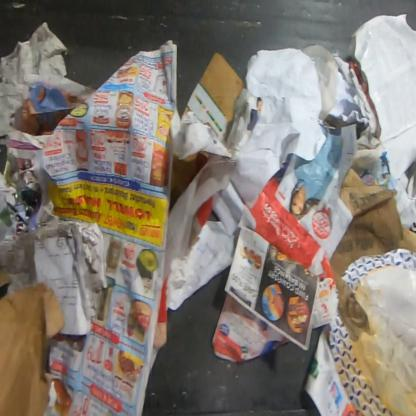cardboard: (330, 165, 415, 342), (0, 281, 65, 415), (182, 50, 244, 145), (168, 151, 209, 214)
